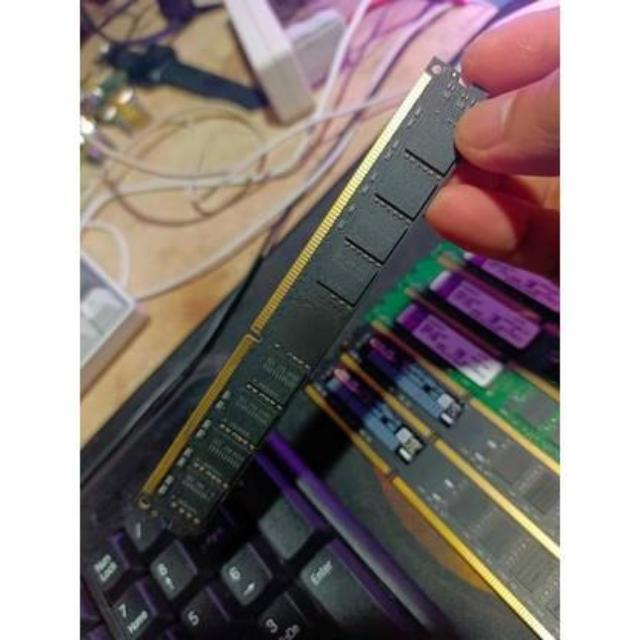RAM: (96, 58, 504, 572)
